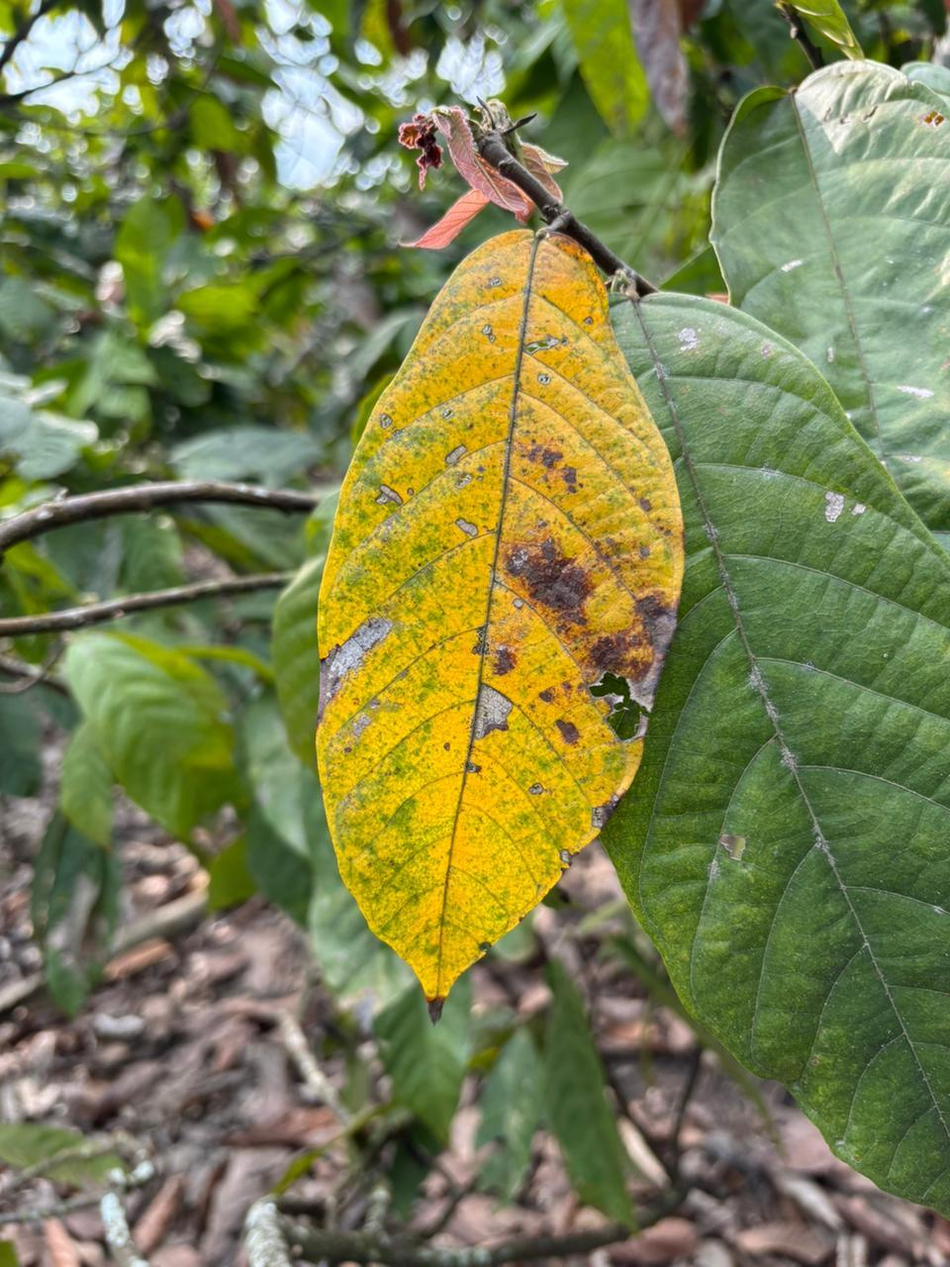deficienciia_fosforo: (317, 231, 683, 1015)
